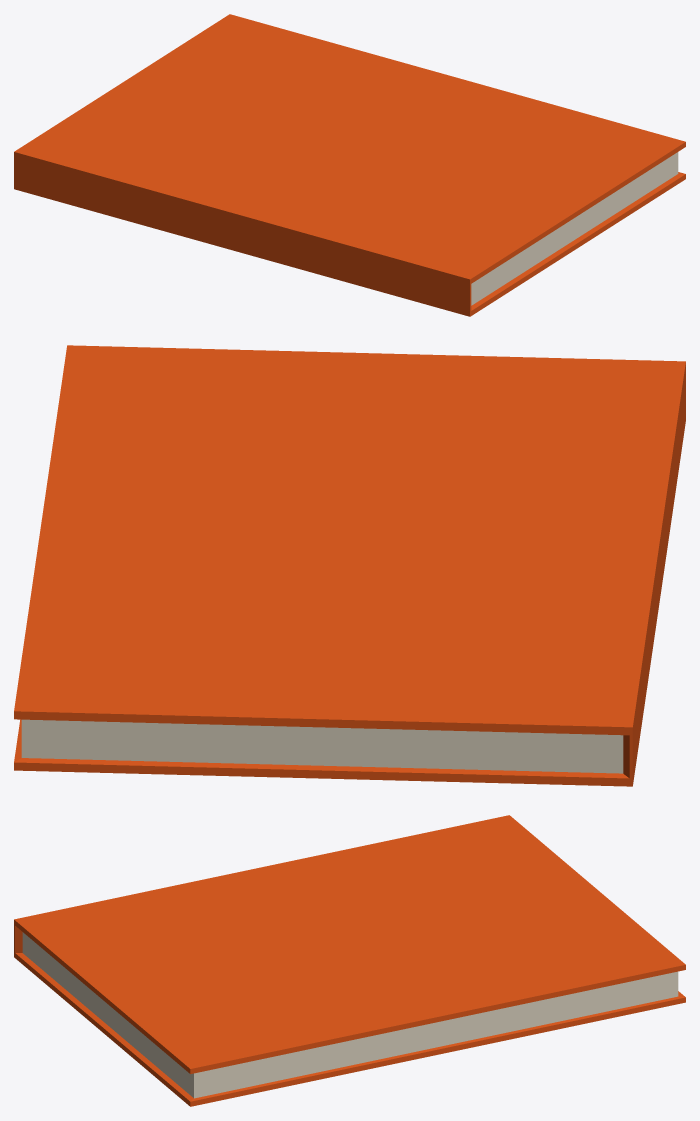
Rendered from book.fbx.
3 renders of one model, top to bottom at view 1: azimuth 30°, elevation 25°; view 2: azimuth 150°, elevation 25°; view 3: azimuth 270°, elevation 25°, orthographic. The views are drawn at different scales.
Parts seen in each view (by area): view 1: book; view 2: book; view 3: book.
Boxes of the visible parts, x1,y1,x2,y2 form: book: [14, 14, 685, 316]; book: [14, 345, 685, 786]; book: [14, 815, 685, 1106].
Bounding box in the file's own units: 42.33 × 2.94 × 47.33.
